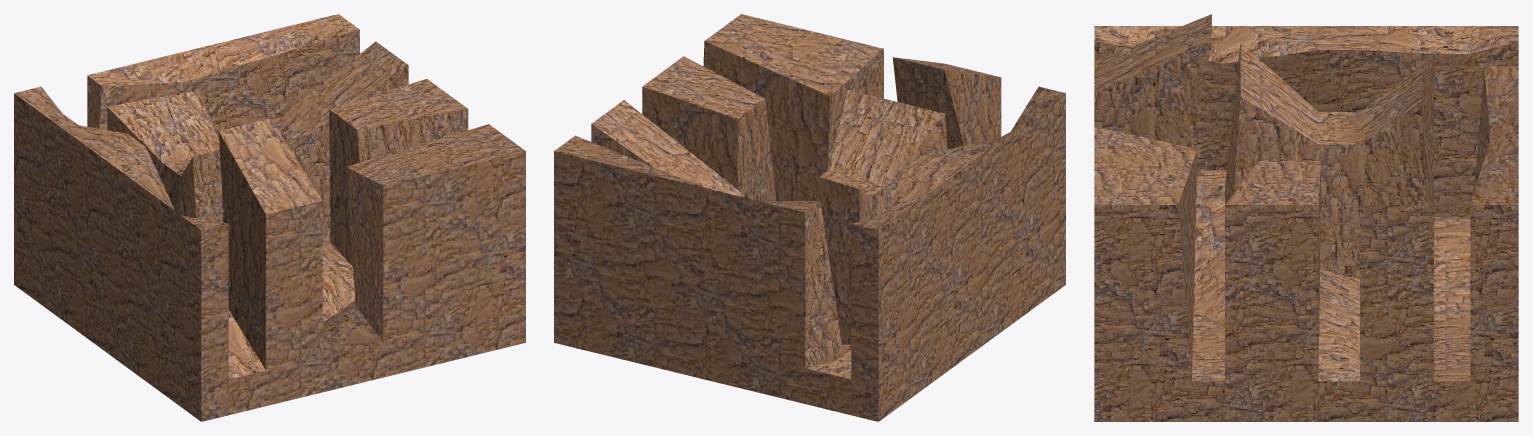
The model's file is Canyon4.fbx.
The picture shows the model from 3 angles, left to right: view 1: azimuth 30°, elevation 25°; view 2: azimuth 150°, elevation 25°; view 3: azimuth 270°, elevation 25°; orthographic projection. The views are drawn at different scales.
Parts seen in each view (by area): view 1: Canyon4; view 2: Canyon4; view 3: Canyon4.
Boxes of the visible parts, x1,y1,x2,y2 form: Canyon4: [14, 14, 525, 421]; Canyon4: [554, 14, 1065, 421]; Canyon4: [1094, 14, 1518, 421].
Size of what is drawn, in the model's own units: 22.23 by 15.45 by 22.23.
